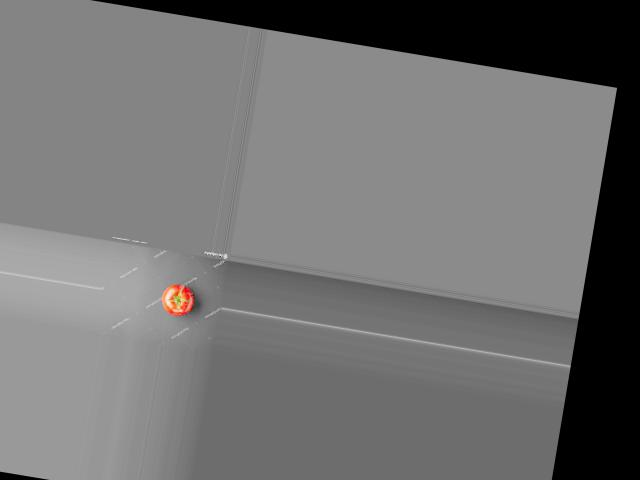tomato: (158, 281, 195, 318)
